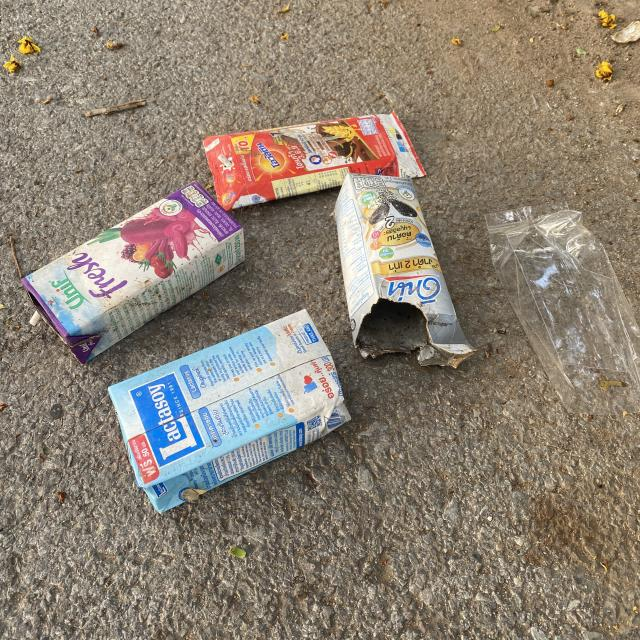Single-layer Plastic: (485, 204, 640, 414)
